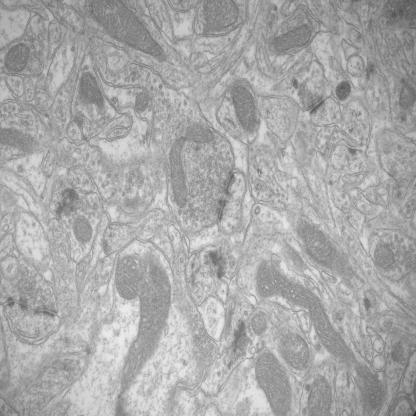mitochondria: (254, 254, 385, 411), (114, 249, 170, 397), (88, 0, 168, 67), (297, 216, 356, 285), (253, 347, 292, 416), (168, 134, 191, 210), (230, 80, 260, 136), (277, 329, 311, 374), (199, 0, 241, 36), (77, 72, 105, 115), (269, 25, 312, 53), (306, 375, 332, 416), (2, 40, 30, 77), (371, 241, 397, 274), (70, 216, 94, 249), (185, 122, 213, 146), (250, 312, 270, 340), (133, 88, 151, 116)
